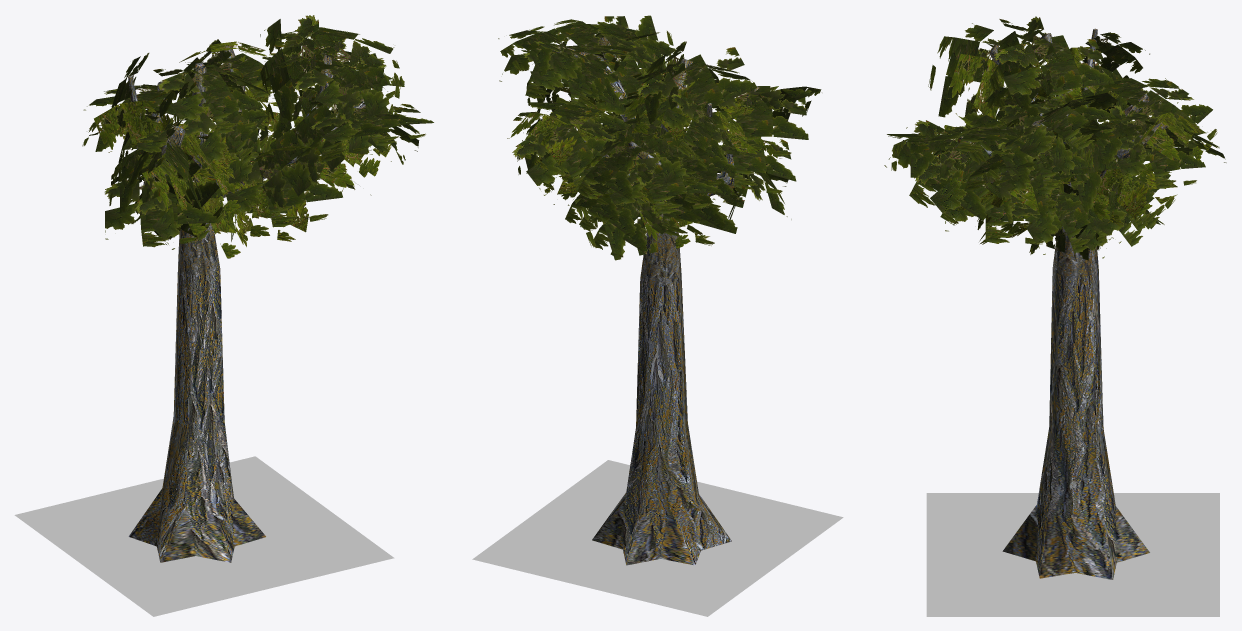
Rendered from Tree.FBX.
The picture shows the model from 3 angles, left to right: view 1: azimuth 30°, elevation 25°; view 2: azimuth 150°, elevation 25°; view 3: azimuth 270°, elevation 25°; orthographic projection. The views are drawn at different scales.
Visible parts, largest first — view 1: Prop_Tree, floor_grid; view 2: Prop_Tree, floor_grid; view 3: Prop_Tree, floor_grid.
Part boxes in pixels (x1,y1,x2,y2): Prop_Tree: (82, 15, 433, 562); floor_grid: (14, 456, 394, 616); Prop_Tree: (498, 15, 821, 565); floor_grid: (472, 460, 843, 616); Prop_Tree: (884, 16, 1226, 579); floor_grid: (926, 493, 1219, 616).
Size of the model in its own units: 258 by 390 by 243.
